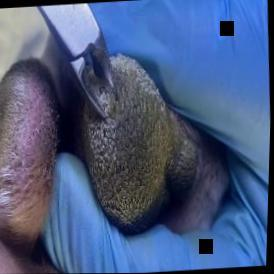keratosis: (76, 41, 212, 233)
